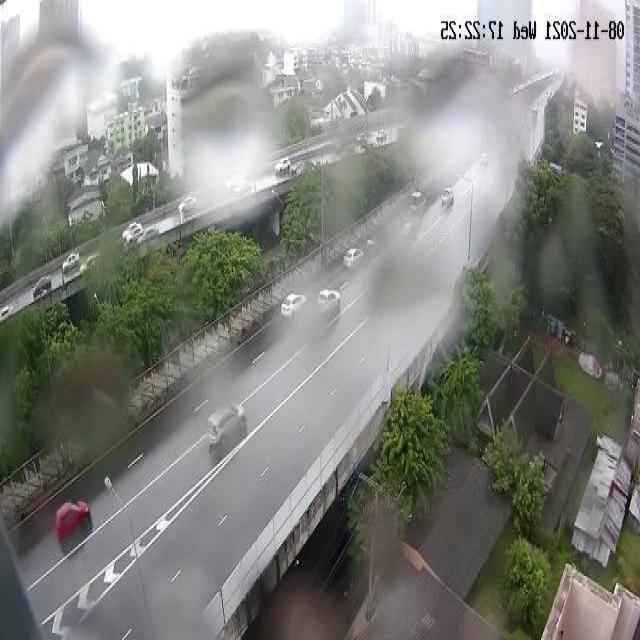Car: (206, 400, 249, 458), (55, 492, 95, 550), (281, 290, 308, 321), (317, 288, 341, 317), (342, 244, 365, 274), (440, 185, 455, 209)
